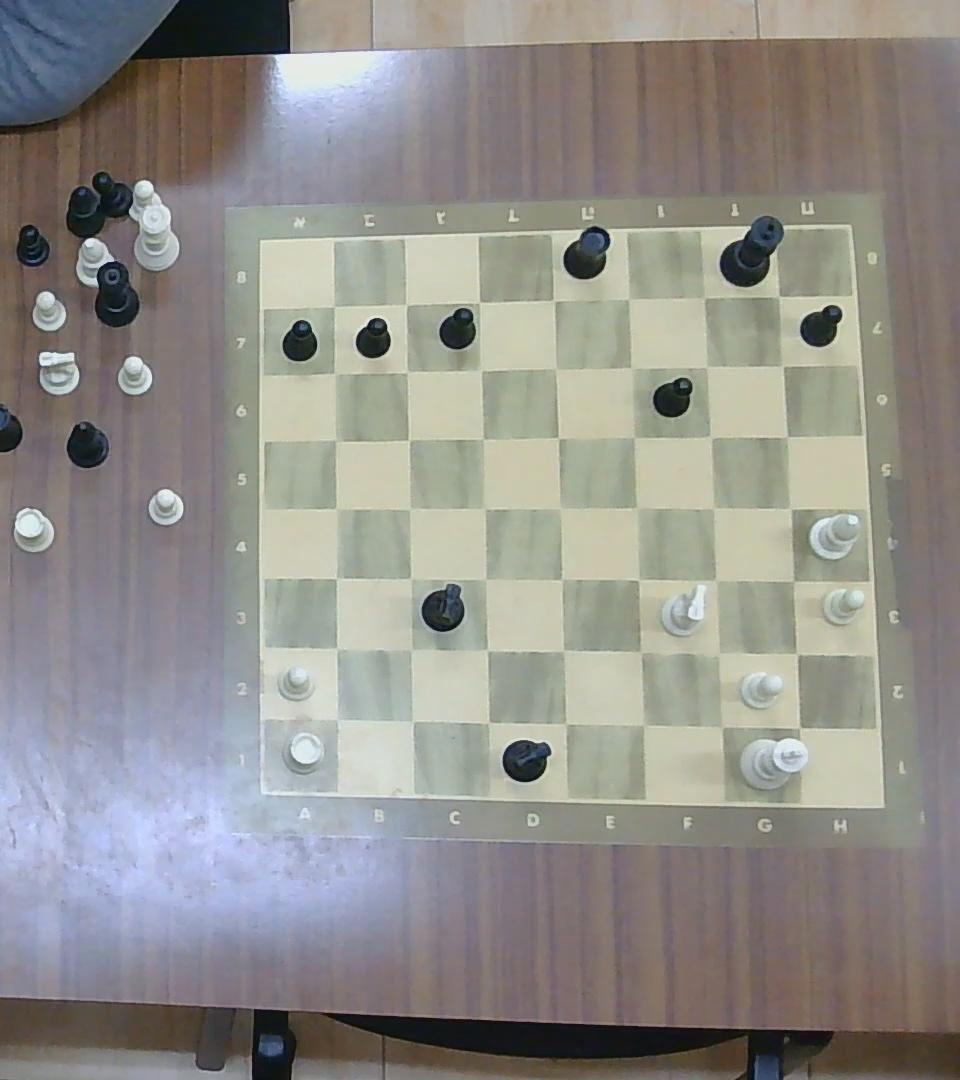xcorner: (701, 636, 735, 669), (781, 710, 815, 743), (626, 707, 658, 740), (705, 708, 736, 742), (396, 704, 427, 736), (320, 703, 352, 734), (472, 706, 503, 737), (781, 637, 812, 668), (320, 632, 351, 663), (548, 707, 580, 737), (625, 636, 656, 666), (548, 634, 578, 665), (700, 565, 730, 595), (623, 563, 652, 594), (547, 563, 576, 594), (472, 634, 501, 664), (698, 493, 728, 522), (776, 493, 806, 522), (545, 493, 574, 522), (397, 635, 426, 664), (622, 493, 651, 522), (471, 564, 500, 593), (321, 562, 350, 591), (777, 566, 807, 594), (471, 493, 499, 522), (545, 422, 573, 451), (617, 352, 646, 380), (469, 424, 497, 452), (323, 494, 351, 521), (542, 354, 570, 381), (693, 352, 721, 379), (615, 285, 643, 312), (396, 494, 423, 521), (621, 423, 648, 450), (396, 565, 424, 591), (320, 292, 348, 318), (467, 354, 493, 381), (773, 422, 800, 448), (692, 285, 719, 311), (395, 426, 423, 451), (769, 353, 797, 378), (323, 427, 349, 453), (697, 422, 723, 448), (393, 358, 420, 383), (766, 284, 792, 309), (323, 360, 348, 385), (466, 289, 491, 314), (541, 286, 566, 311), (393, 291, 419, 315)
